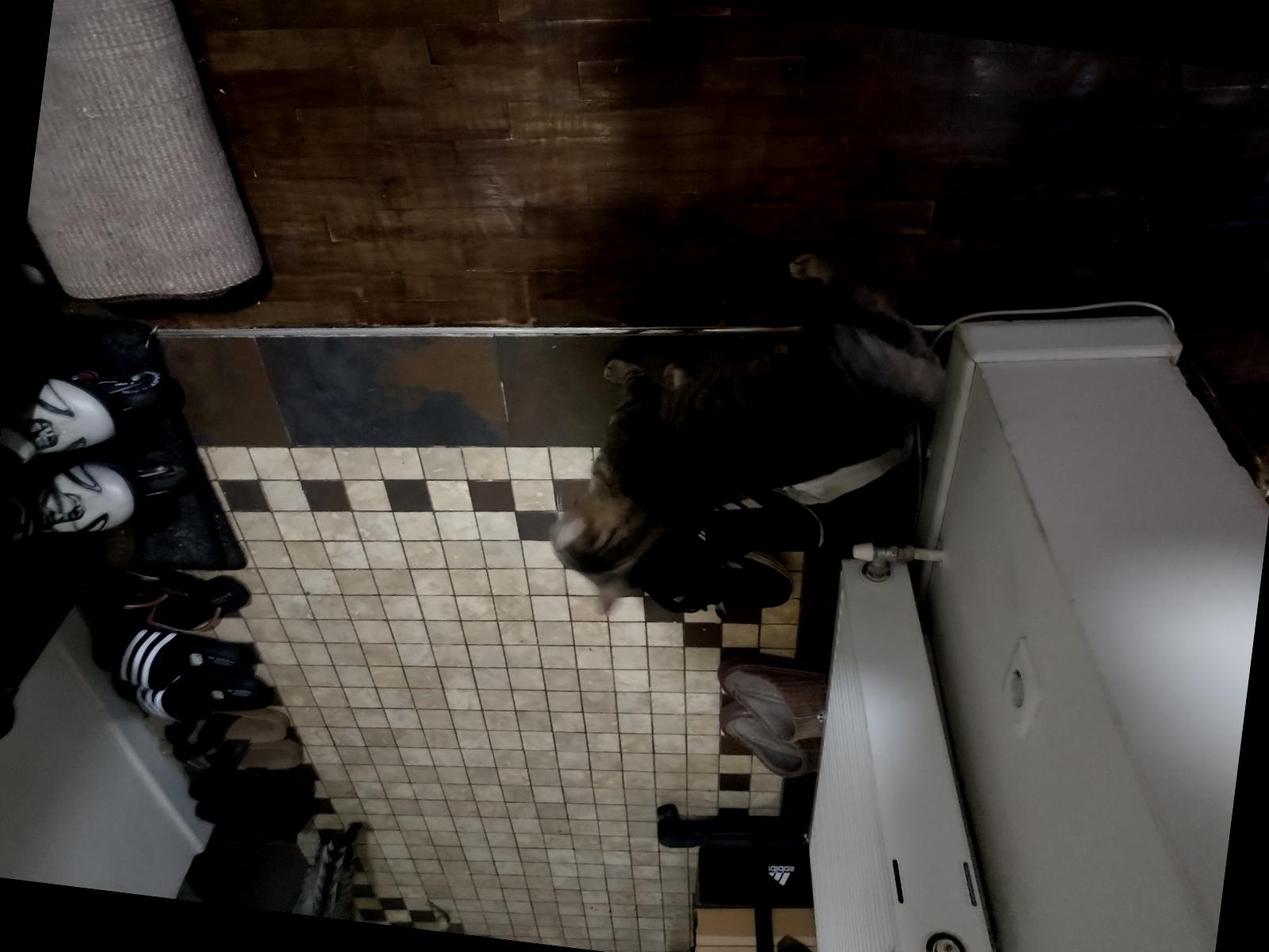macka: (535, 216, 970, 661)
